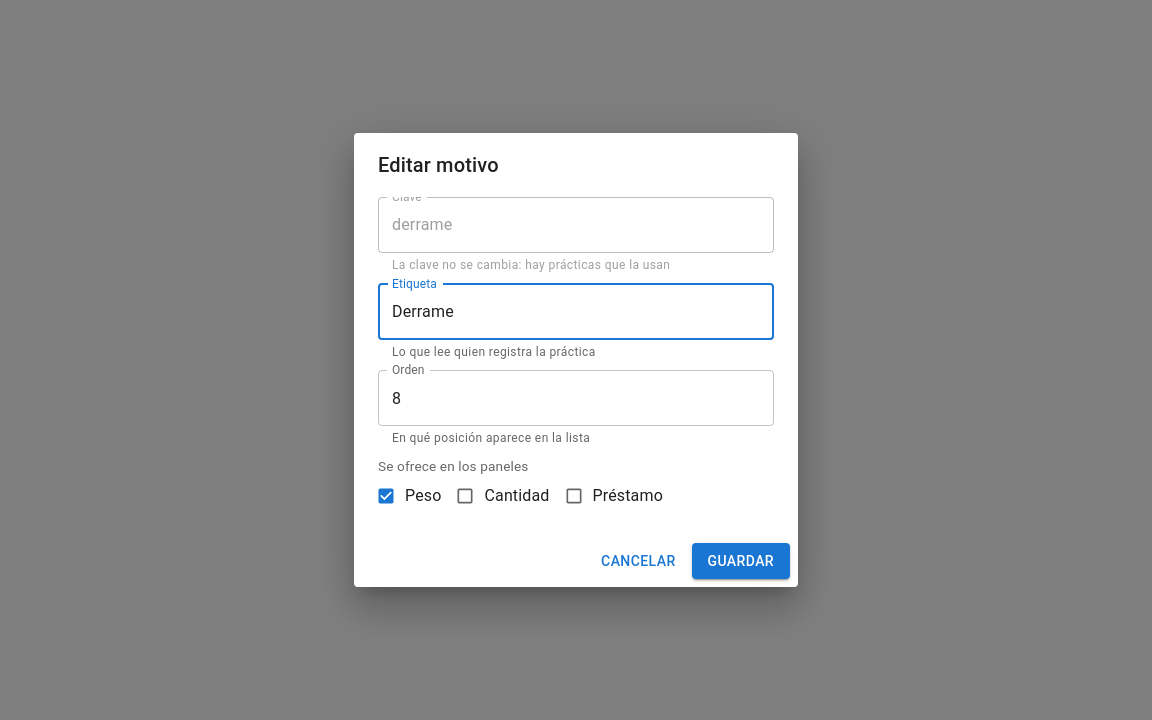
DialogoMotivo › exige al menos un panel
The image size is (1152, 720).
Click the checkbox labelled "Peso".
click(409, 496)  # box [376, 486, 442, 506]
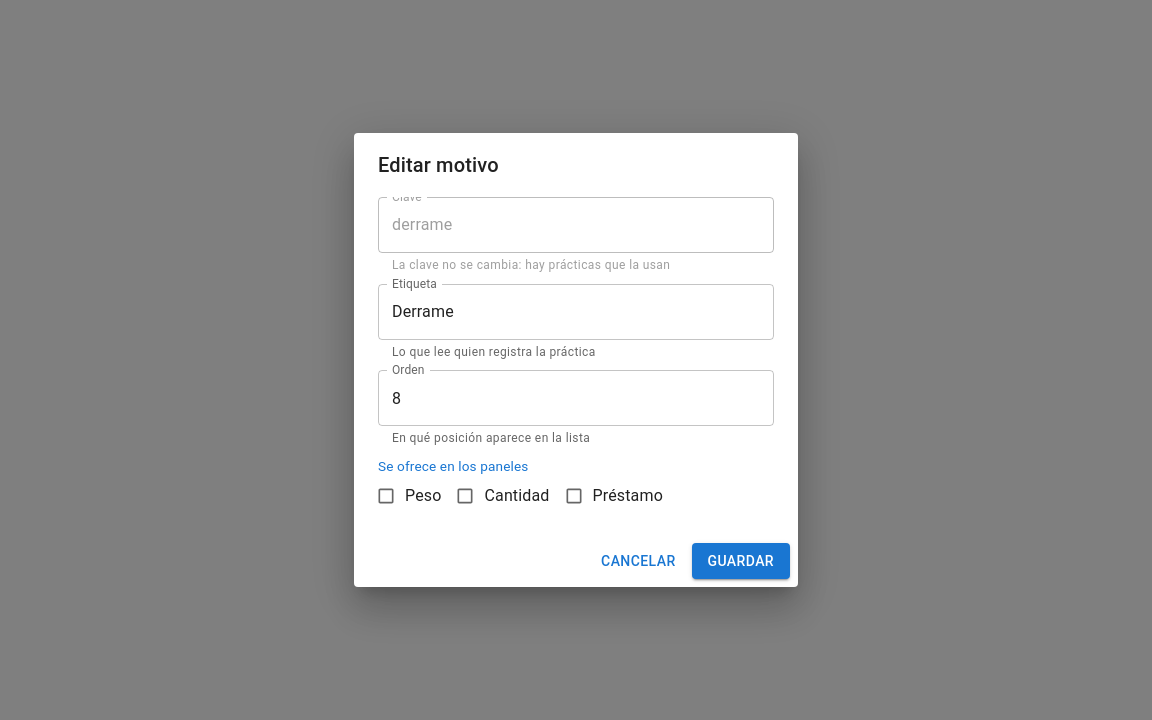
Click the button "Guardar".
click(741, 561)  # box [692, 543, 790, 579]
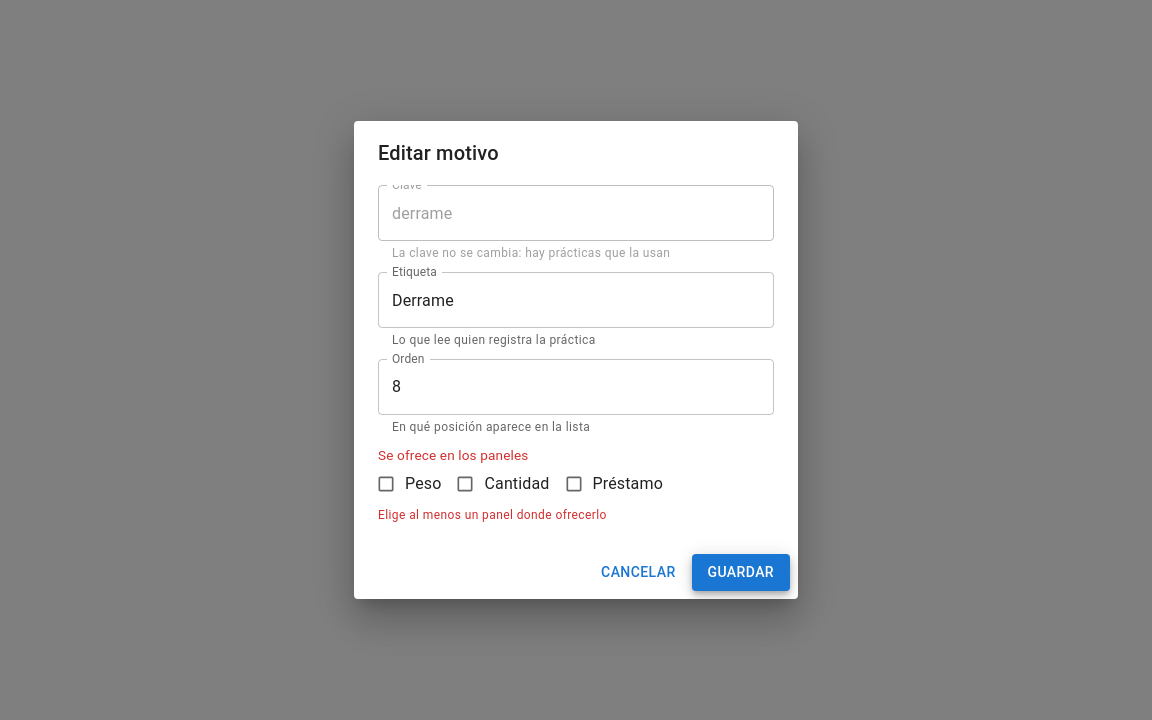
Expected: the text "Elige al menos un panel donde ofrecerlo" is shown, [378, 508, 607, 522]
